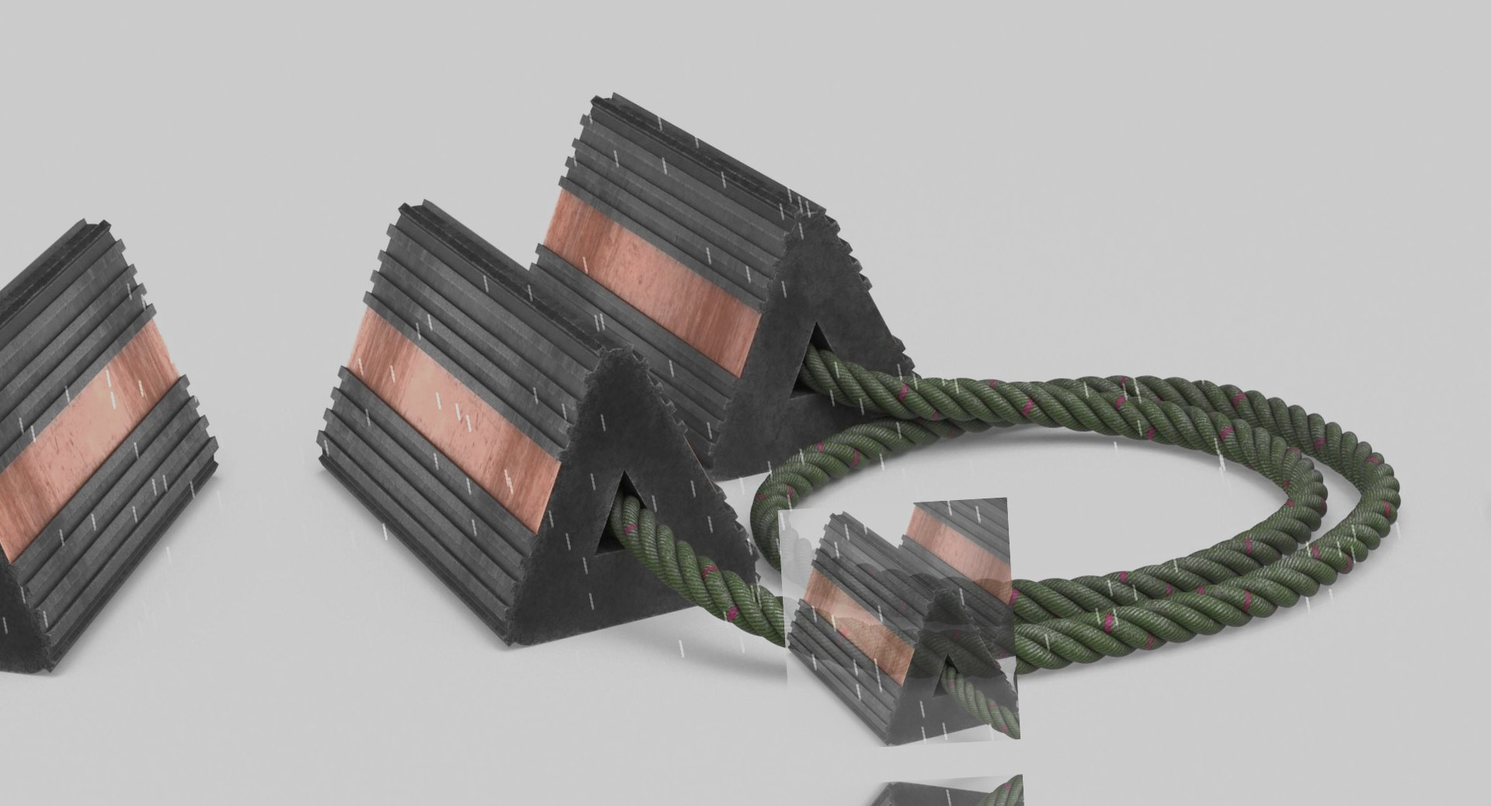chock: (300, 173, 764, 659), (518, 75, 941, 495), (0, 203, 233, 689), (778, 497, 1021, 752)
